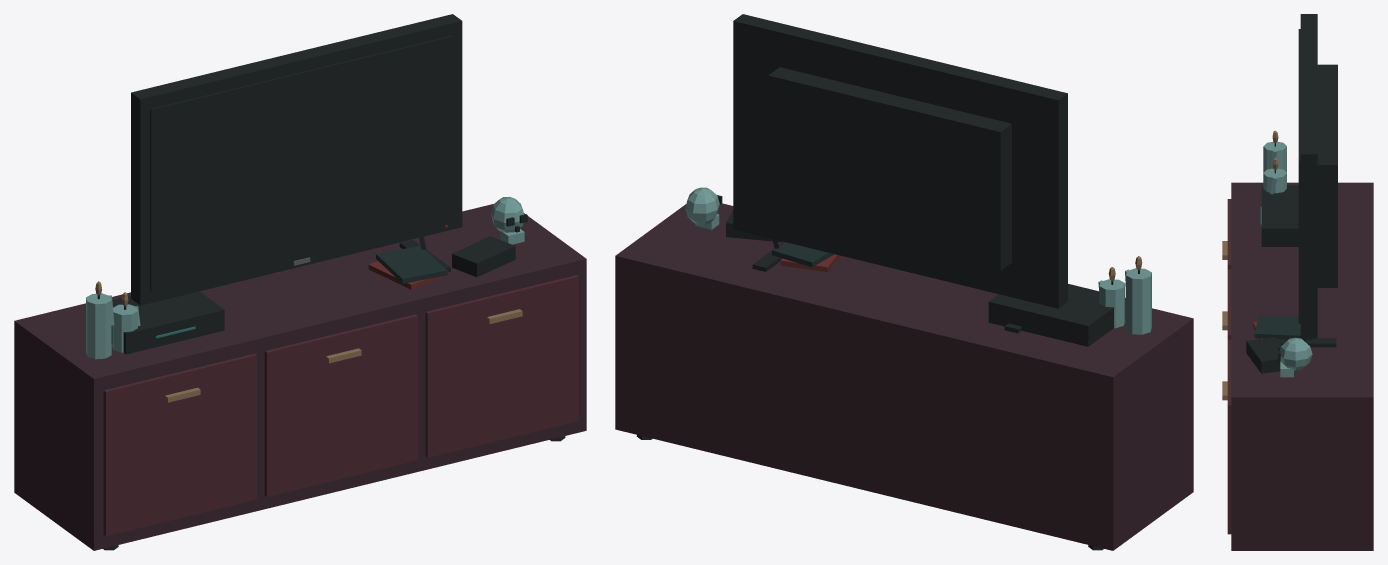
File: televizor.glb
The picture shows the model from 3 angles, left to right: view 1: azimuth 30°, elevation 25°; view 2: azimuth 150°, elevation 25°; view 3: azimuth 270°, elevation 25°; orthographic projection. The views are drawn at different scales.
Visible parts, largest first — view 1: Televizor, Ecran; view 2: Televizor; view 3: Televizor, Ecran.
Part boxes in pixels (bbox=[...]): Televizor: bbox=[14, 14, 586, 550]; Ecran: bbox=[150, 35, 453, 291]; Televizor: bbox=[615, 14, 1193, 550]; Televizor: bbox=[1222, 14, 1373, 550]; Ecran: bbox=[1298, 29, 1300, 323].
Bounding box in the file's own units: 1.5 × 1.19 × 0.446.
